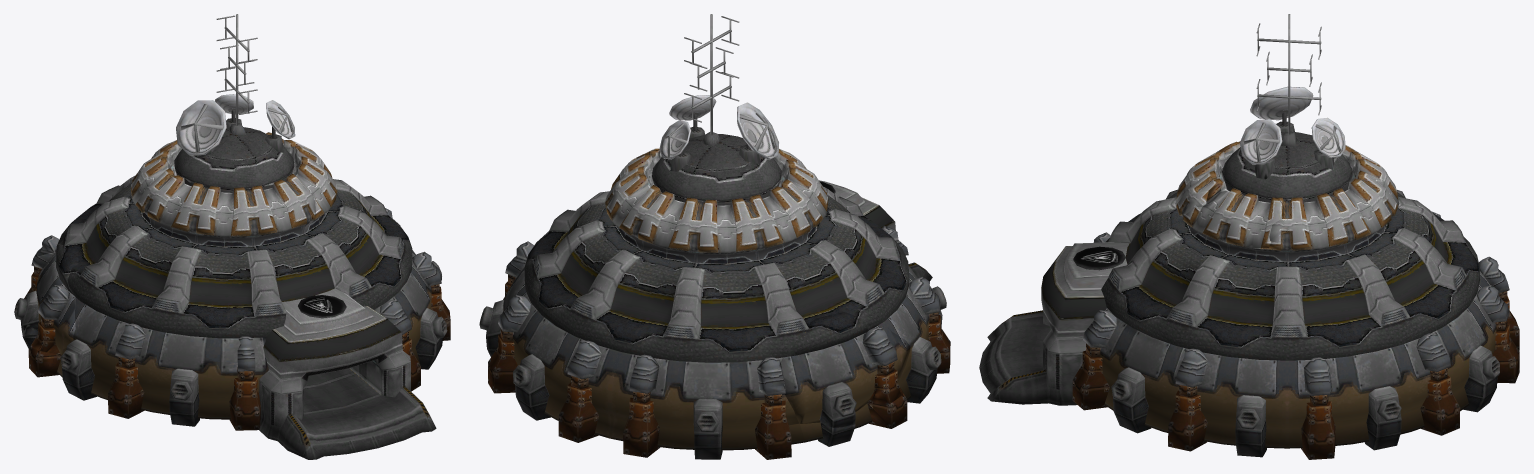
Rendered from UPLHeadquarters.glb.
The picture shows the model from 3 angles, left to right: view 1: azimuth 30°, elevation 25°; view 2: azimuth 150°, elevation 25°; view 3: azimuth 270°, elevation 25°; orthographic projection. The views are drawn at different scales.
Visible parts, largest first — view 1: Mesh.001, Mesh, Chunk 2, Object005; view 2: Mesh.001, Mesh, Chunk 2; view 3: Mesh.001, Mesh, Object005.
Part boxes in pixels (x1=…): Mesh.001: x1=21, y1=14, x2=450, y2=459; Mesh: x1=131, y1=94, x2=326, y2=246; Chunk 2: x1=14, y1=244, x2=78, y2=354; Object005: x1=294, y1=146, x2=337, y2=226; Mesh.001: x1=479, y1=14, x2=950, y2=459; Mesh: x1=605, y1=95, x2=828, y2=263; Chunk 2: x1=781, y1=312, x2=910, y2=427; Mesh.001: x1=979, y1=14, x2=1519, y2=459; Mesh: x1=1175, y1=117, x2=1399, y2=262; Object005: x1=1183, y1=184, x2=1286, y2=248.
Bounding box in the file's own units: 5.01 × 4.17 × 5.76.
5 materials, 5 textured.
